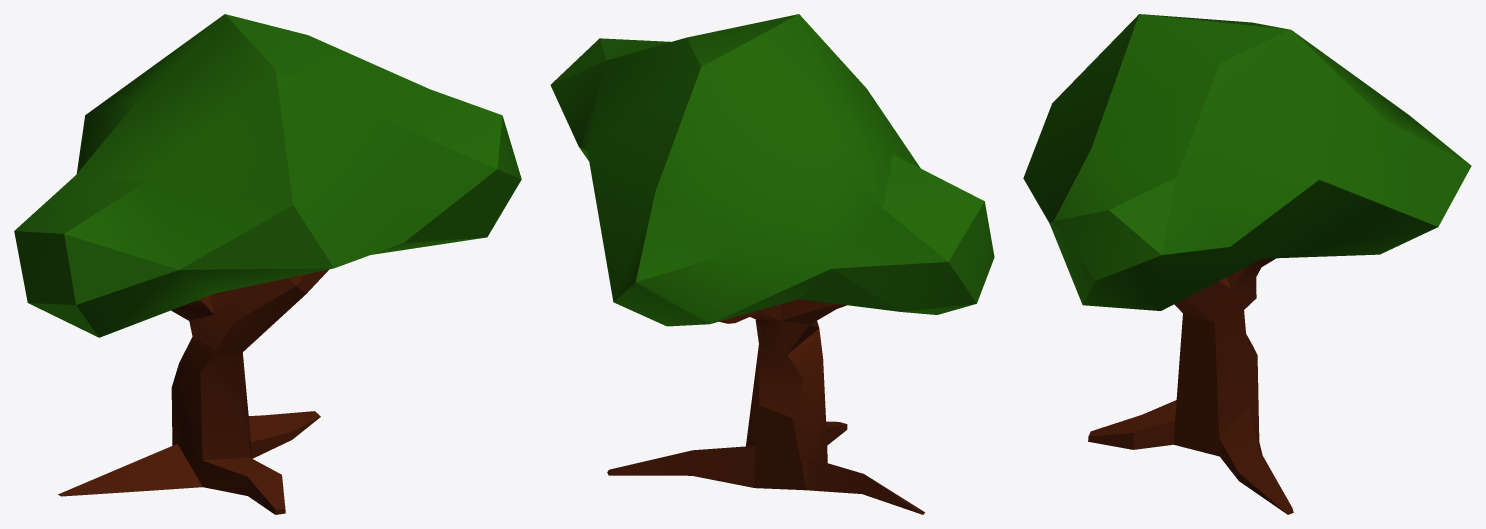
Rendered from TreeWOSwingProxy_C.fbx.
3 views of the same model, side by side, from view 1: azimuth 30°, elevation 25°; view 2: azimuth 150°, elevation 25°; view 3: azimuth 270°, elevation 25° (orthographic). The views are drawn at different scales.
Parts seen in each view (by area): view 1: TreeWOSwingProxy; view 2: TreeWOSwingProxy; view 3: TreeWOSwingProxy.
Part boxes in pixels (bbox=[...]): TreeWOSwingProxy: bbox=[14, 14, 521, 514]; TreeWOSwingProxy: bbox=[550, 14, 994, 514]; TreeWOSwingProxy: bbox=[1023, 14, 1471, 514].
Size of the model in its own units: 776 by 712 by 655.
